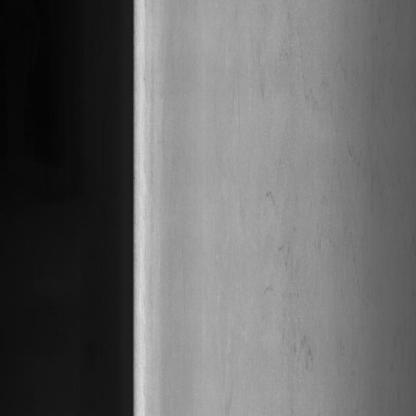silk_spot: (253, 67, 363, 387)
